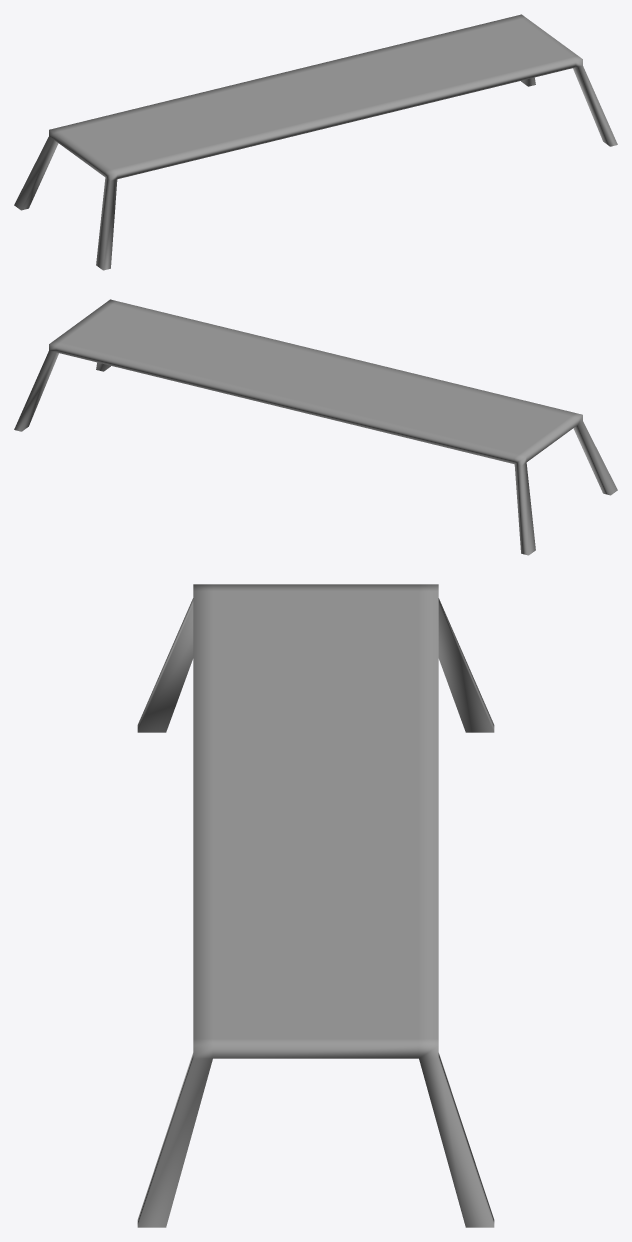
The model's file is Cosa_para_sostener_recipiente_4.obj.
The picture shows the model from 3 angles, top to bottom: view 1: azimuth 30°, elevation 25°; view 2: azimuth 150°, elevation 25°; view 3: azimuth 270°, elevation 25°; orthographic projection. The views are drawn at different scales.
Parts seen in each view (by area): view 1: pCube24; view 2: pCube24; view 3: pCube24.
Boxes of the visible parts, left/top/right/bottom form: pCube24: left=14, top=14, right=617, bottom=270; pCube24: left=14, top=299, right=617, bottom=555; pCube24: left=137, top=584, right=494, bottom=1227.
Size of the model in its own units: 53.09 by 7.94 by 15.93.
